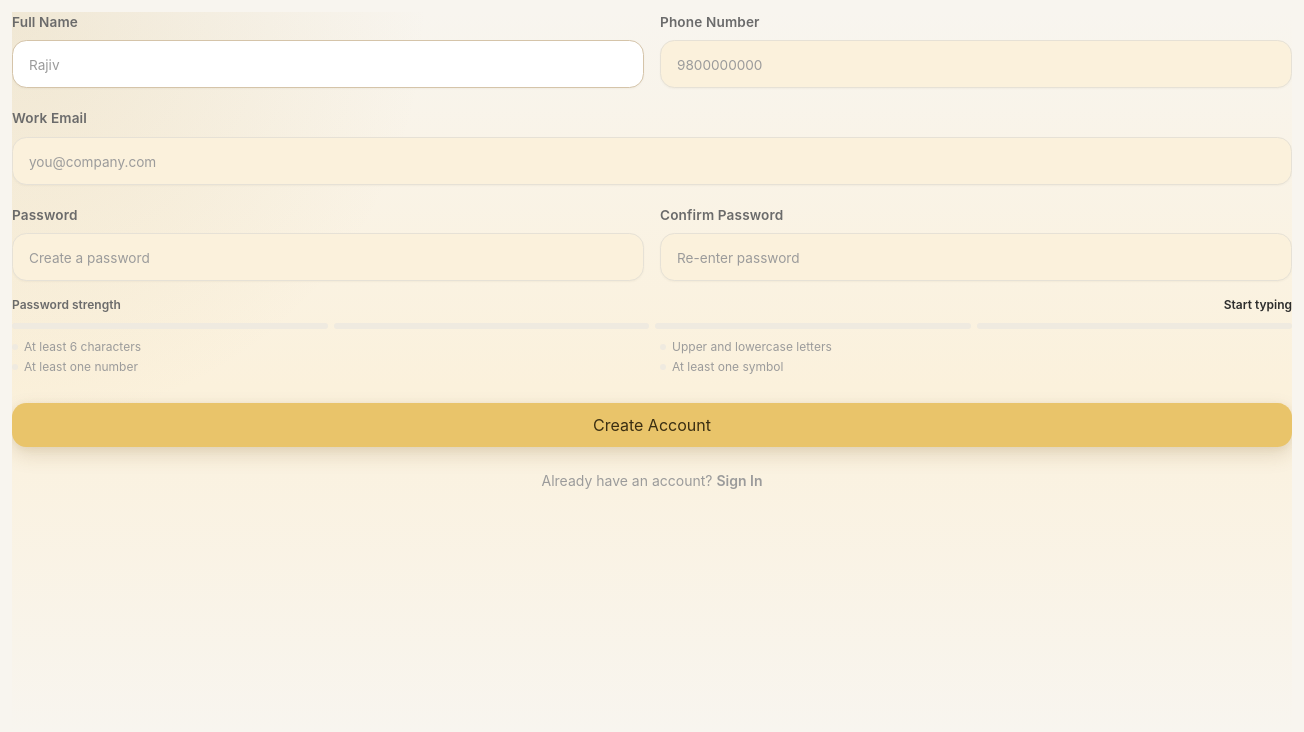
Test case: authentication and account forms › updates the registration password strength as recommendations are met
Type "abc" into the password field labelled "Password". click: (328, 257)
box: [12,233,644,281]
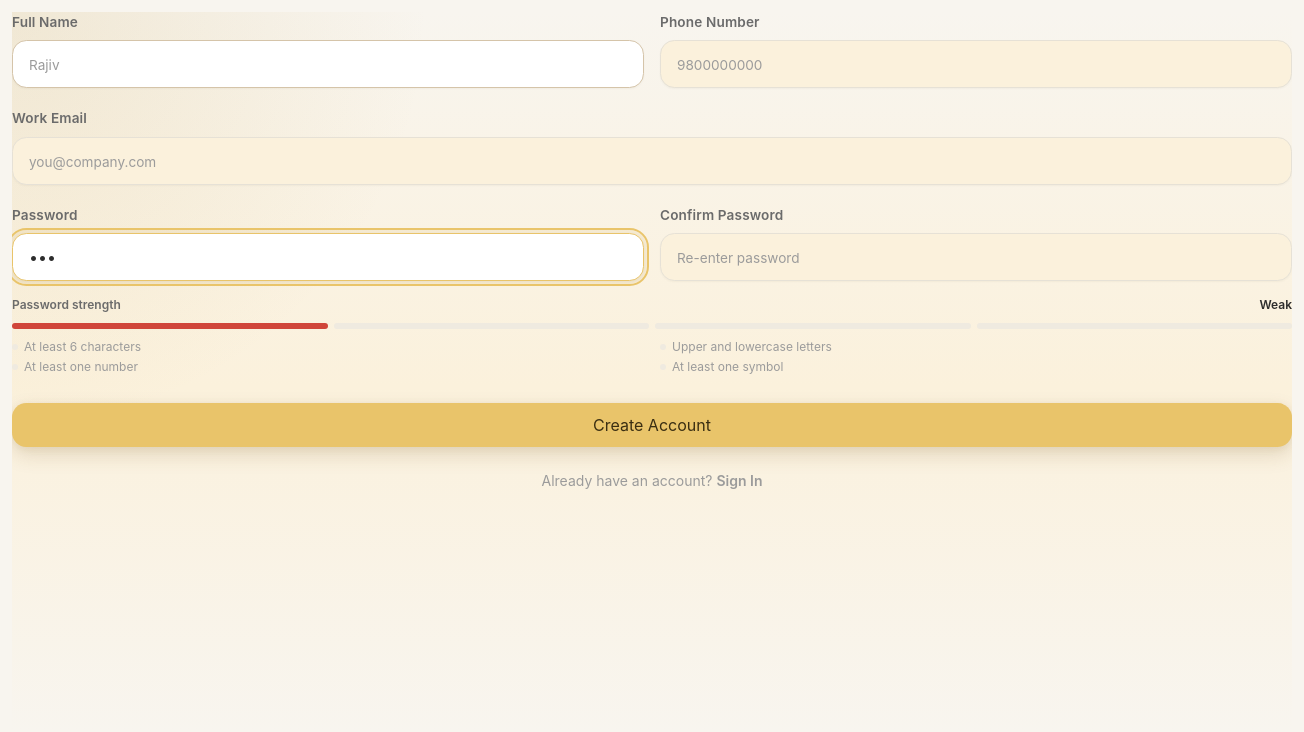
Result: the text "Weak" is shown at [1259,297,1292,313]
Type "Abcdef1!" into the password field labelled "Password". click: (328, 257)
box: [12,233,644,281]
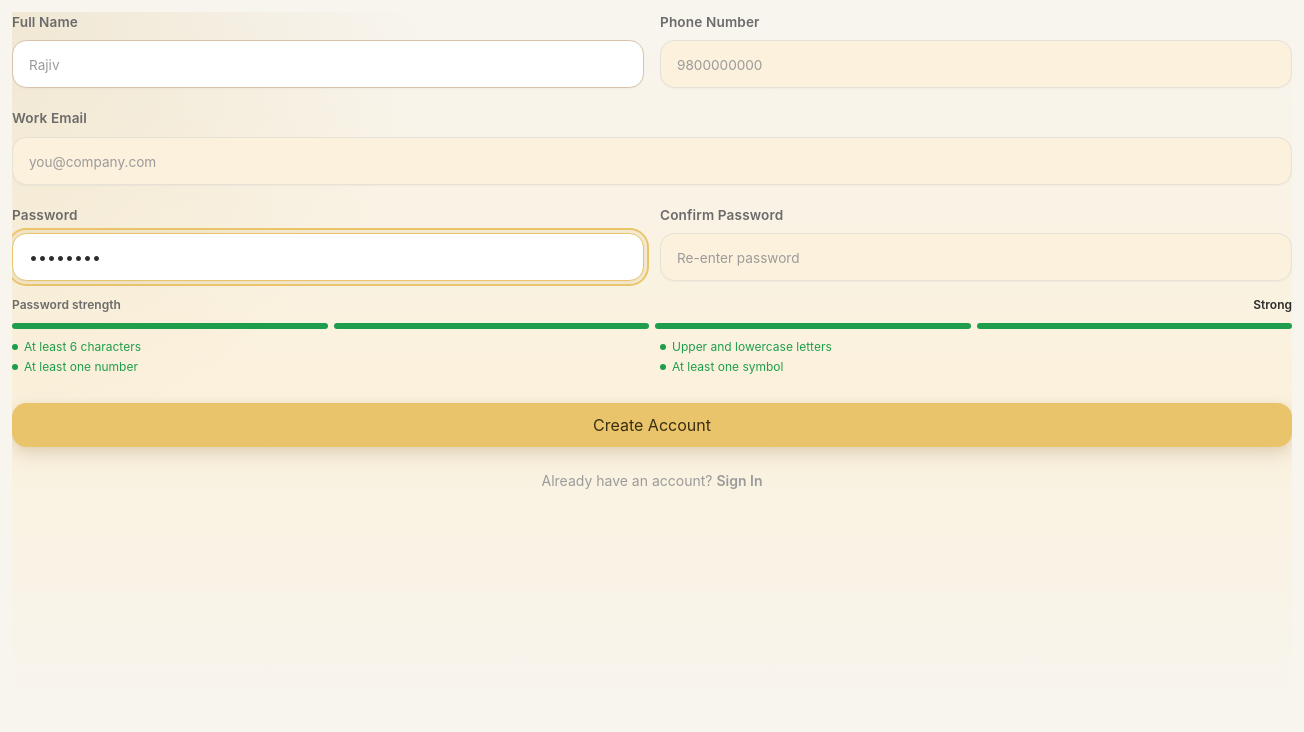
Result: the text "Strong" is shown at [1253,297,1292,313]
